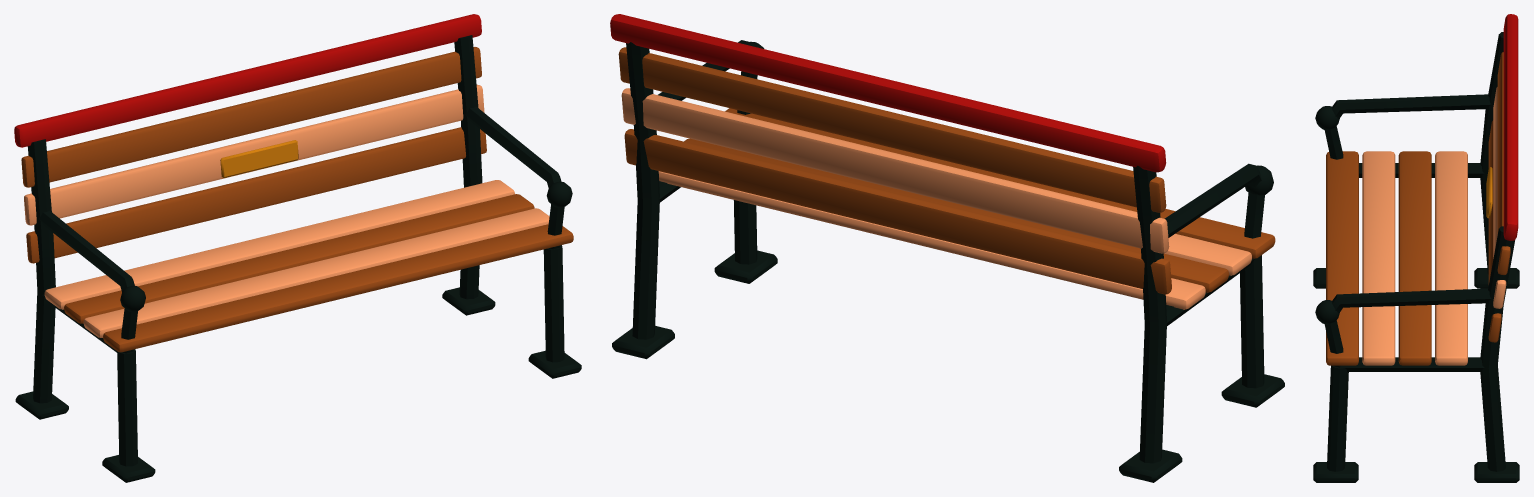
Rendered from Bench.fbx.
3 views of the same model, side by side, from view 1: azimuth 30°, elevation 25°; view 2: azimuth 150°, elevation 25°; view 3: azimuth 270°, elevation 25° (orthographic). The views are drawn at different scales.
Visible parts, largest first — view 1: Bench; view 2: Bench; view 3: Bench.
Part boxes in pixels (bbox=[...]): Bench: bbox=[14, 14, 581, 482]; Bench: bbox=[610, 14, 1284, 482]; Bench: bbox=[1313, 14, 1519, 482].
Size of the model in its own units: 6.05 by 3.5 by 2.5.
